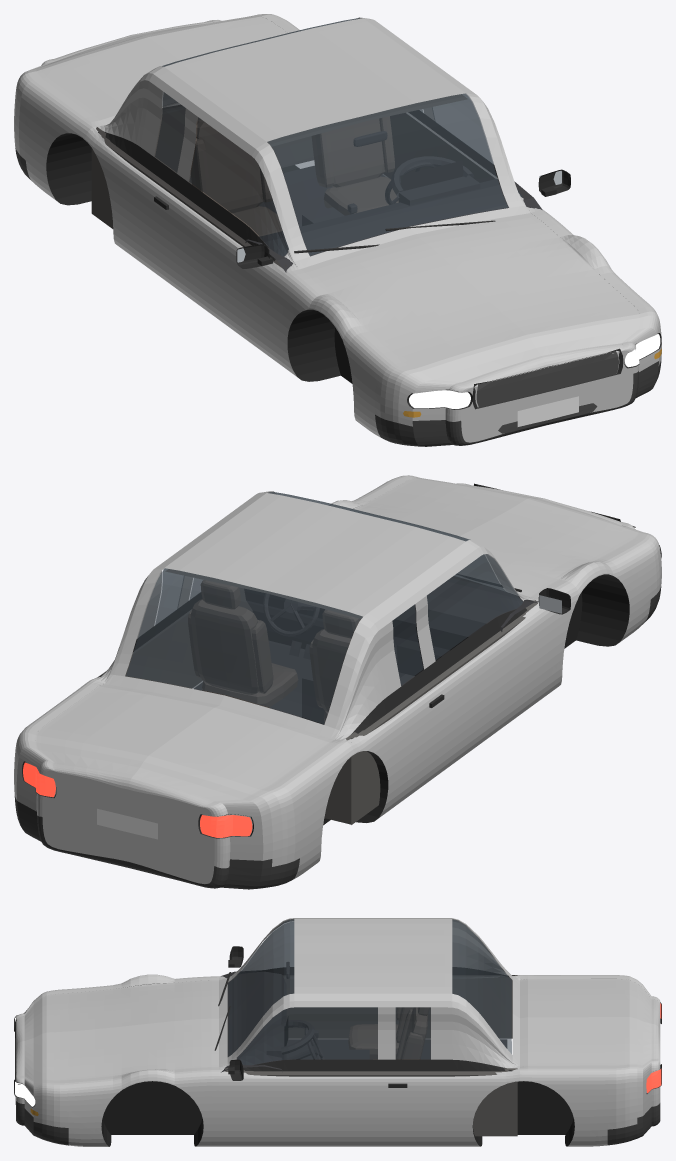
The model's file is car_volt.fbx.
3 views of the same model, one above another, from view 1: azimuth 30°, elevation 25°; view 2: azimuth 150°, elevation 25°; view 3: azimuth 270°, elevation 25° (orthographic). The views are drawn at different scales.
Visible parts, largest first — view 1: volt__hood, volt__glass, volt__roof, volt__trunk, volt__doorR, volt__seats, volt__interior, volt__cabin, volt__pillars, volt__fenderFR, volt__quarterR, volt__wells (+9 smaller); view 2: volt__glass, volt__trunk, volt__roof, volt__hood, volt__doorR, volt__rearPanel, volt__seats, volt__interior, volt__pillars, volt__quarterR, volt__cabin, volt__fenderFR (+7 smaller); view 3: volt__hood, volt__glass, volt__doorL, volt__trunk, volt__roof, volt__quarterL, volt__pillars, volt__cabin, volt__fenderFL, volt__wells, volt__interior, volt__seals (+5 smaller).
Boxes of the visible parts, <box> form: volt__hood: <box>289,210,650,391</box>; volt__glass: <box>155,18,522,256</box>; volt__roof: <box>153,18,476,148</box>; volt__trunk: <box>25,14,541,272</box>; volt__doorR: <box>130,170,279,361</box>; volt__seats: <box>190,116,398,236</box>; volt__interior: <box>245,131,542,272</box>; volt__cabin: <box>91,94,497,268</box>; volt__pillars: <box>101,17,525,262</box>; volt__fenderFR: <box>268,267,452,437</box>; volt__quarterR: <box>14,72,138,260</box>; volt__wells: <box>46,133,352,383</box>; volt__glass: <box>126,492,522,723</box>; volt__trunk: <box>25,575,538,811</box>; volt__roof: <box>153,493,476,623</box>; volt__hood: <box>331,475,650,598</box>; volt__doorR: <box>399,606,545,802</box>; volt__rearPanel: <box>36,762,230,884</box>; volt__seats: <box>188,580,360,722</box>; volt__interior: <box>194,578,538,724</box>; volt__pillars: <box>101,491,525,736</box>; volt__quarterR: <box>223,713,406,879</box>; volt__cabin: <box>102,569,537,824</box>; volt__fenderFR: <box>534,534,661,701</box>; volt__hood: <box>16,975,218,1085</box>; volt__glass: <box>228,919,511,1065</box>; volt__doorL: <box>231,1072,444,1146</box>; volt__trunk: <box>219,975,660,1071</box>; volt__roof: <box>294,918,452,1001</box>; volt__quarterL: <box>444,1063,651,1146</box>; volt__pillars: <box>227,918,512,1068</box>; volt__cabin: <box>225,975,517,1136</box>; volt__fenderFL: <box>24,1070,231,1146</box>; volt__wells: <box>101,1081,574,1146</box>; volt__interior: <box>221,962,507,1072</box>; volt__seals: <box>243,967,512,1071</box>.
Size of the model in its own units: 2.34 by 1.29 by 5.17.
